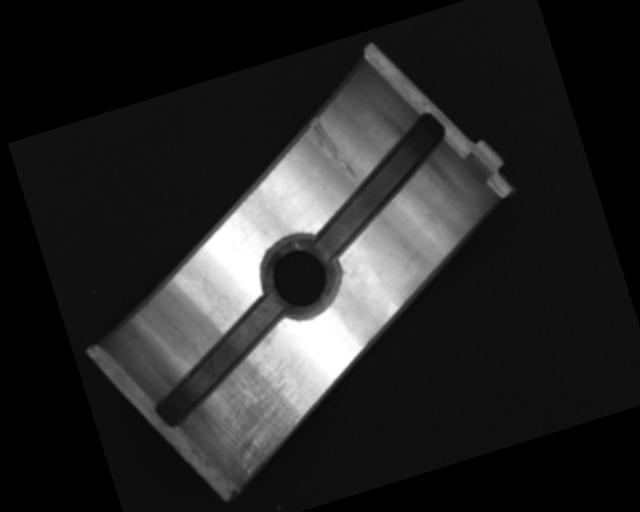gap: (291, 109, 469, 262), (131, 292, 306, 430)
hole: (254, 230, 346, 329)
nick: (305, 109, 359, 187)
scratch: (190, 348, 321, 482)
